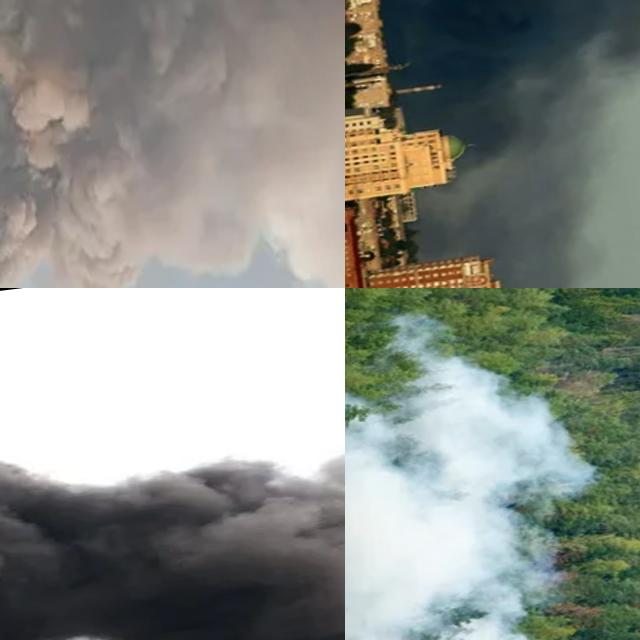smoke: (0, 350, 345, 640), (0, 0, 345, 288), (345, 296, 613, 640), (361, 0, 640, 200)
